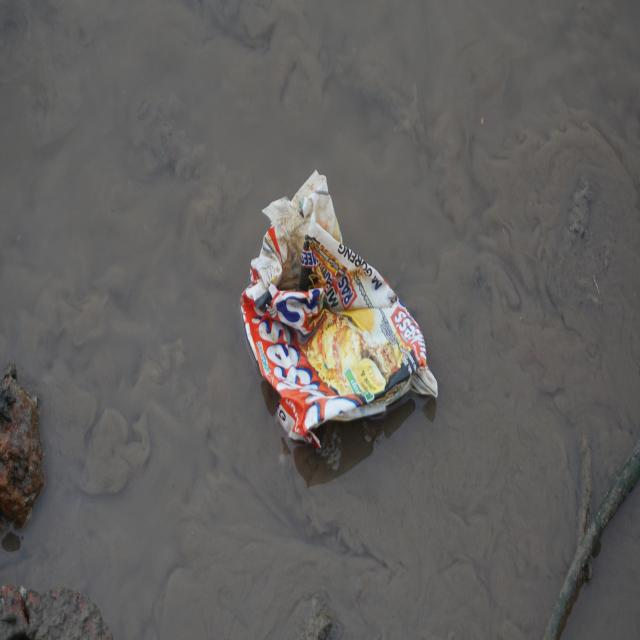Bungkus Makanan: (238, 164, 444, 452)
